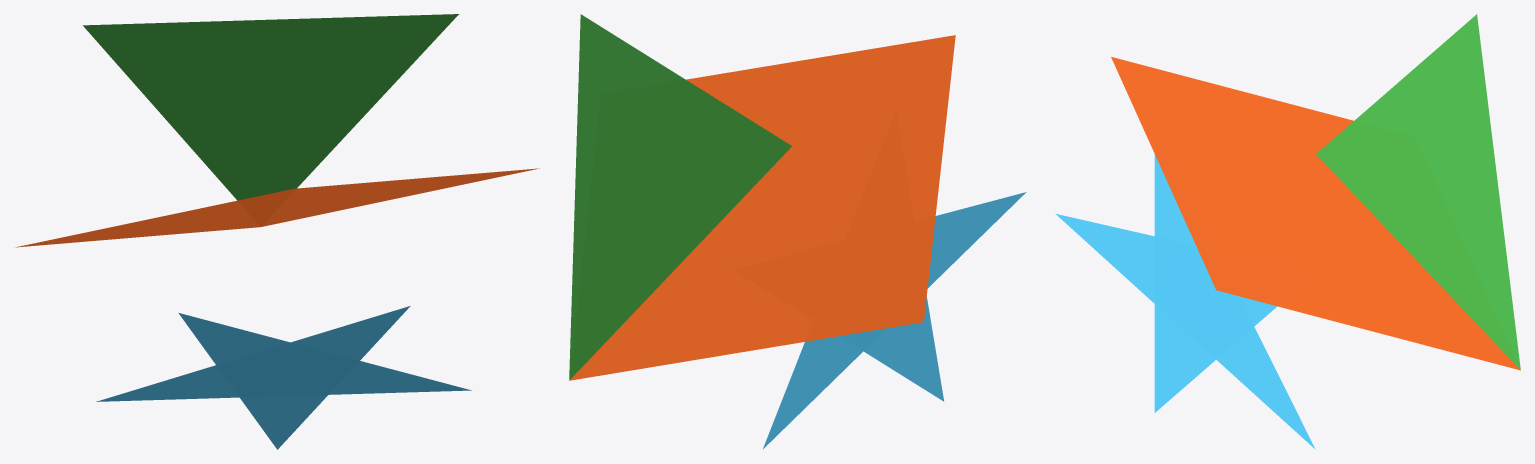
Rendered from great_disnub_dirhombidodecahedronF.obj.
The picture shows the model from 3 angles, left to right: view 1: azimuth 30°, elevation 25°; view 2: azimuth 150°, elevation 25°; view 3: azimuth 270°, elevation 25°; orthographic projection. The views are drawn at different scales.
Bounding box in the file's own units: 2.6 × 2.29 × 2.53.
